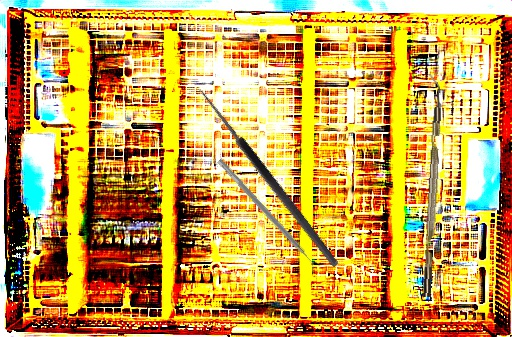Chopper: (412, 73, 446, 298)
Hook Surgical: (186, 86, 341, 275)
Spatula Surgical: (212, 158, 320, 272)
